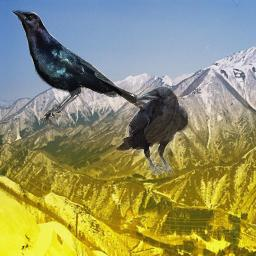Crow: (11, 10, 160, 125), (116, 86, 188, 175)
